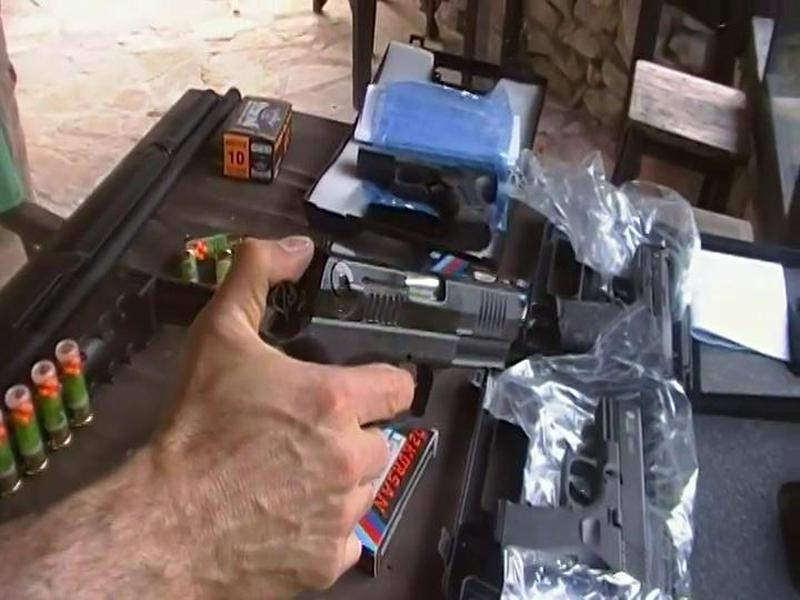Pistola: (218, 221, 549, 447)
